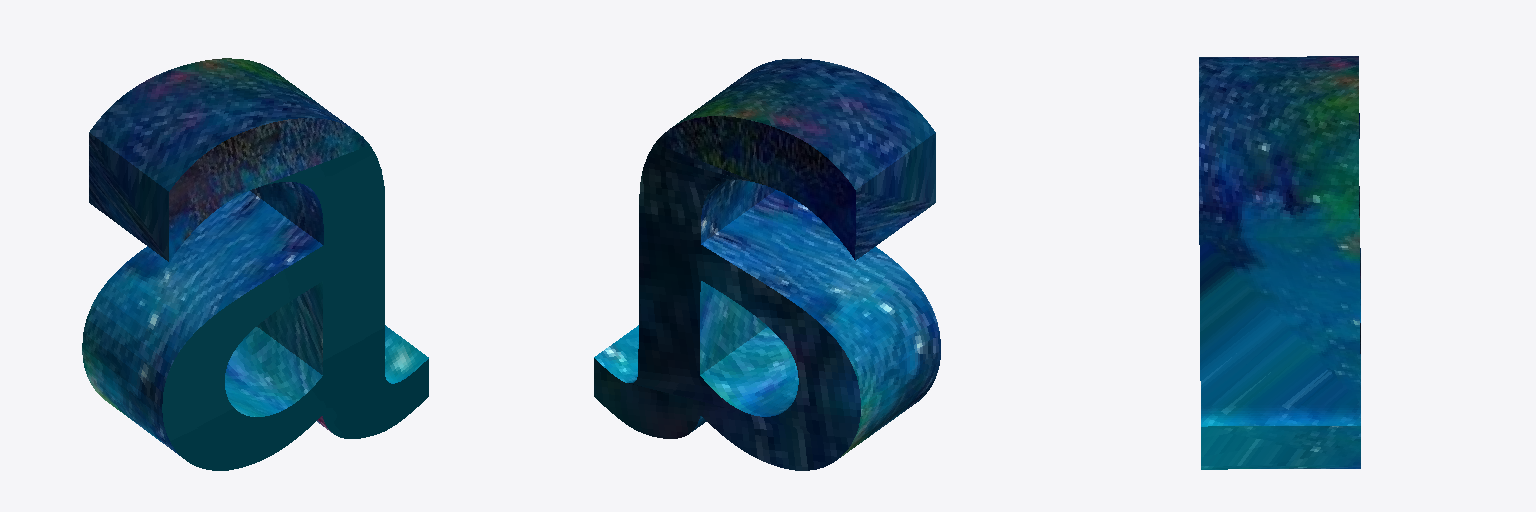
The picture shows the model from 3 angles: view 1: azimuth 30°, elevation 25°; view 2: azimuth 150°, elevation 25°; view 3: azimuth 270°, elevation 25°; orthographic projection.
Visible parts, largest first — view 1: 文本.005_Mesh.007; view 2: 文本.005_Mesh.007; view 3: 文本.005_Mesh.007.
Boxes of the visible parts, <box> form: 文本.005_Mesh.007: <box>82,58,428,470</box>; 文本.005_Mesh.007: <box>594,58,940,470</box>; 文本.005_Mesh.007: <box>1199,56,1360,469</box>.
Size of the model in its own units: 0.5745 by 0.6988 by 0.3031.
1 materials, 1 textured.